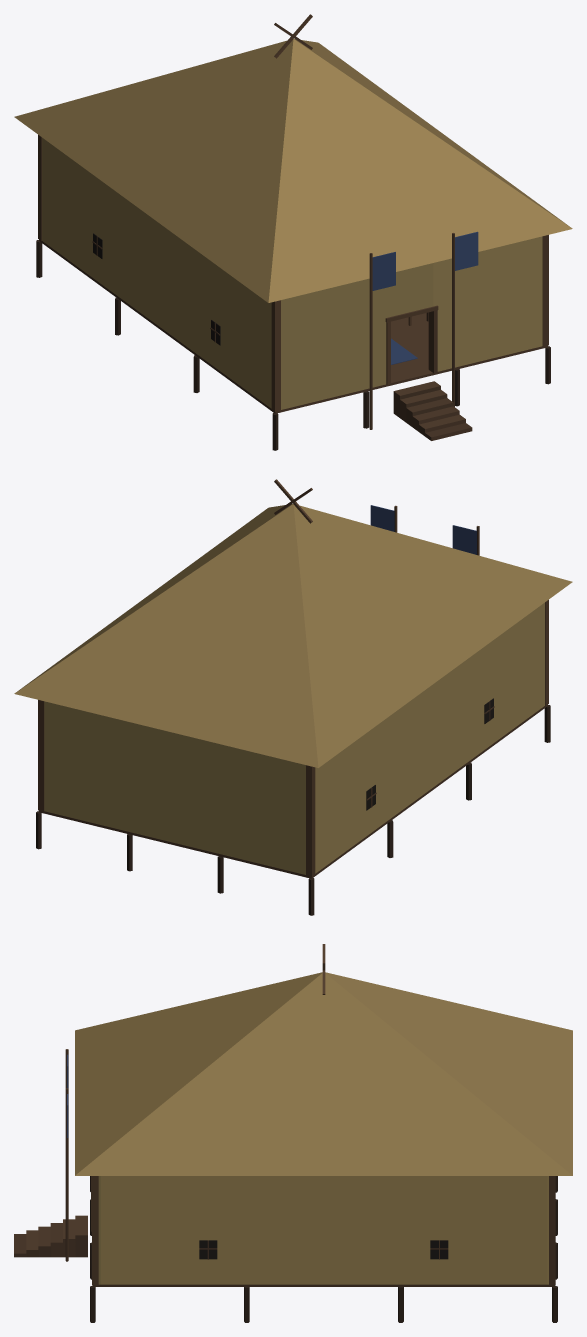
File: walk_tidebound_hall.glb
3 views of the same model, one above another, from view 1: azimuth 30°, elevation 25°; view 2: azimuth 150°, elevation 25°; view 3: azimuth 270°, elevation 25° (orthographic). The views are drawn at different scales.
Parts seen in each view (by area): view 1: walk_tidebound_hall_roof, walk_tidebound_hall; view 2: walk_tidebound_hall_roof, walk_tidebound_hall; view 3: walk_tidebound_hall_roof, walk_tidebound_hall.
Part boxes in pixels (x1,y1,x2,y2): walk_tidebound_hall_roof: (14, 14, 572, 302); walk_tidebound_hall: (36, 135, 550, 450); walk_tidebound_hall_roof: (14, 479, 572, 767); walk_tidebound_hall: (36, 505, 550, 915); walk_tidebound_hall_roof: (75, 944, 572, 1175); walk_tidebound_hall: (14, 1049, 557, 1322).
Size of what is drawn, in the model's own units: 13.4 by 13.08 by 21.77.
2 materials, 2 textured.
